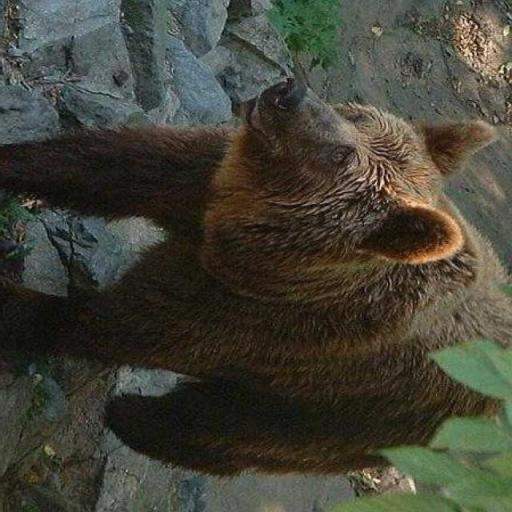Bear: (0, 76, 511, 478)
